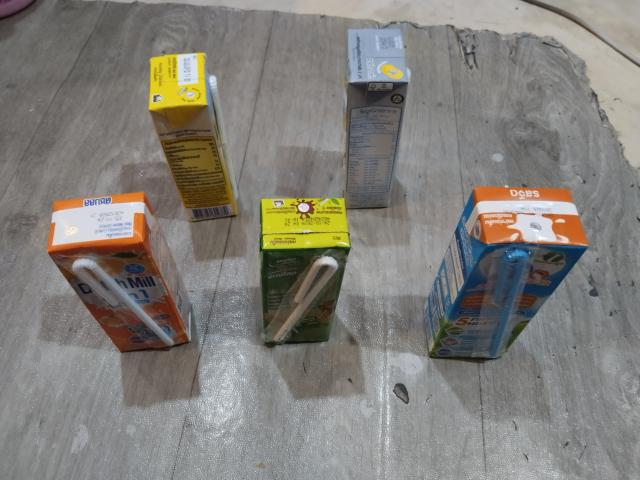drink_box: (410, 177, 598, 366), (39, 194, 200, 363), (138, 45, 245, 226), (253, 192, 353, 349), (339, 23, 410, 212)
